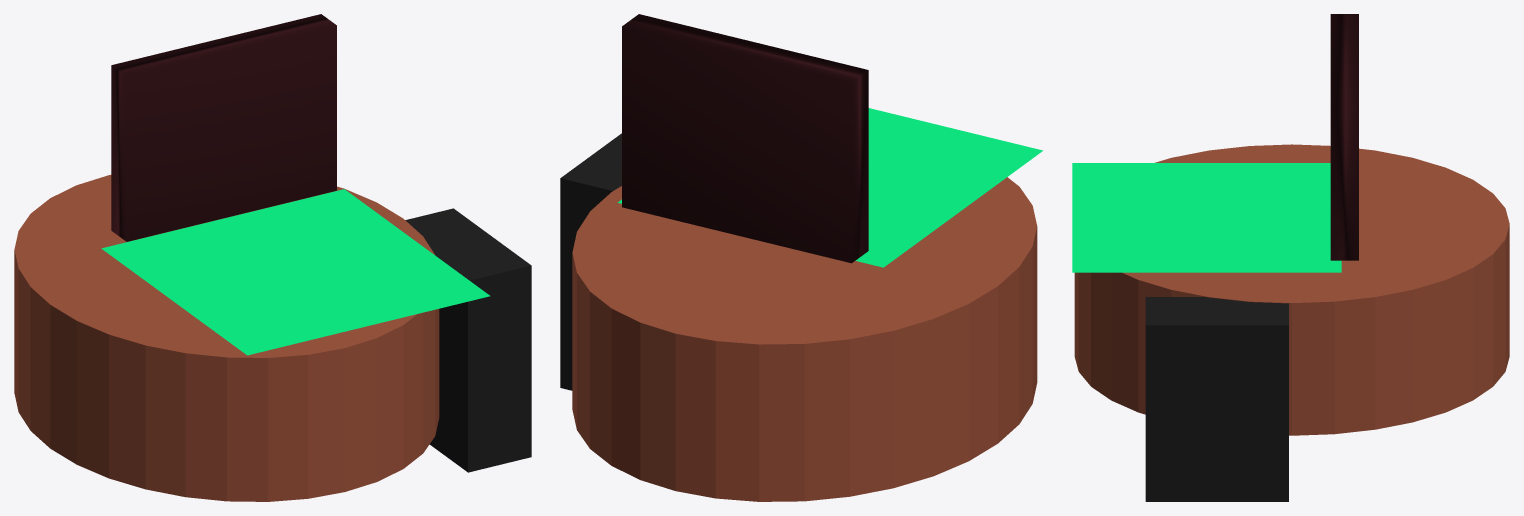
Rendered from monitor.glb.
3 renders of one model, left to right at view 1: azimuth 30°, elevation 25°; view 2: azimuth 150°, elevation 25°; view 3: azimuth 270°, elevation 25°, orthographic. The views are drawn at different scales.
Parts seen in each view (by area): view 1: Cylinder, Cube.002, Plane, Cube.005; view 2: Cylinder, Cube.002, Plane, Cube.005; view 3: Cylinder, Cube.005, Plane, Cube.002.
Part boxes in pixels (x1,y1,x2,y2): Cylinder: [14, 175, 439, 501]; Cube.002: [111, 14, 336, 241]; Plane: [101, 189, 490, 355]; Cube.005: [405, 208, 531, 472]; Cylinder: [572, 177, 1037, 501]; Cube.002: [622, 14, 868, 263]; Plane: [617, 108, 1042, 267]; Cube.005: [560, 133, 621, 390]; Cylinder: [1074, 144, 1509, 435]; Cube.005: [1145, 297, 1288, 501]; Plane: [1072, 163, 1341, 272]; Cube.002: [1330, 14, 1358, 260].
Bounding box in the file's own units: 2.05 × 1.86 × 2.1.
